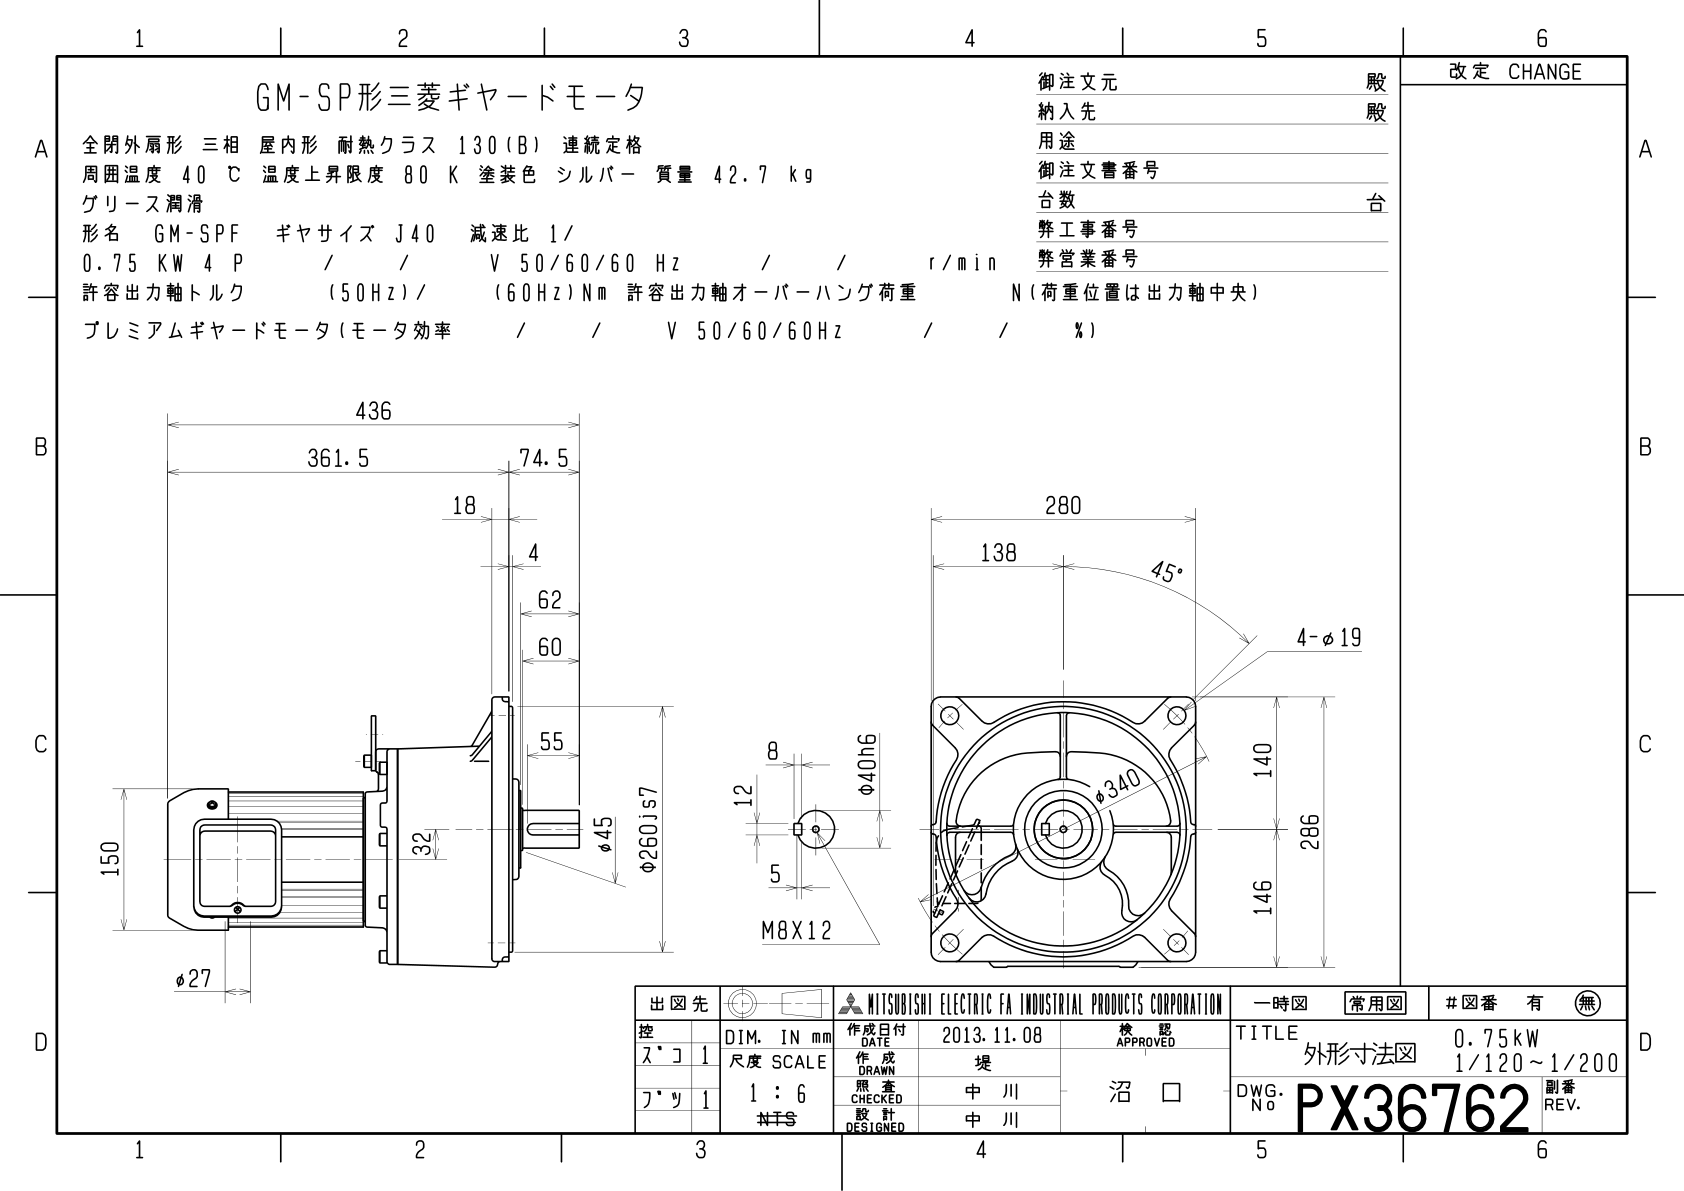GM_SP_屋内_三相_フランジ: (73, 363, 1379, 978)
